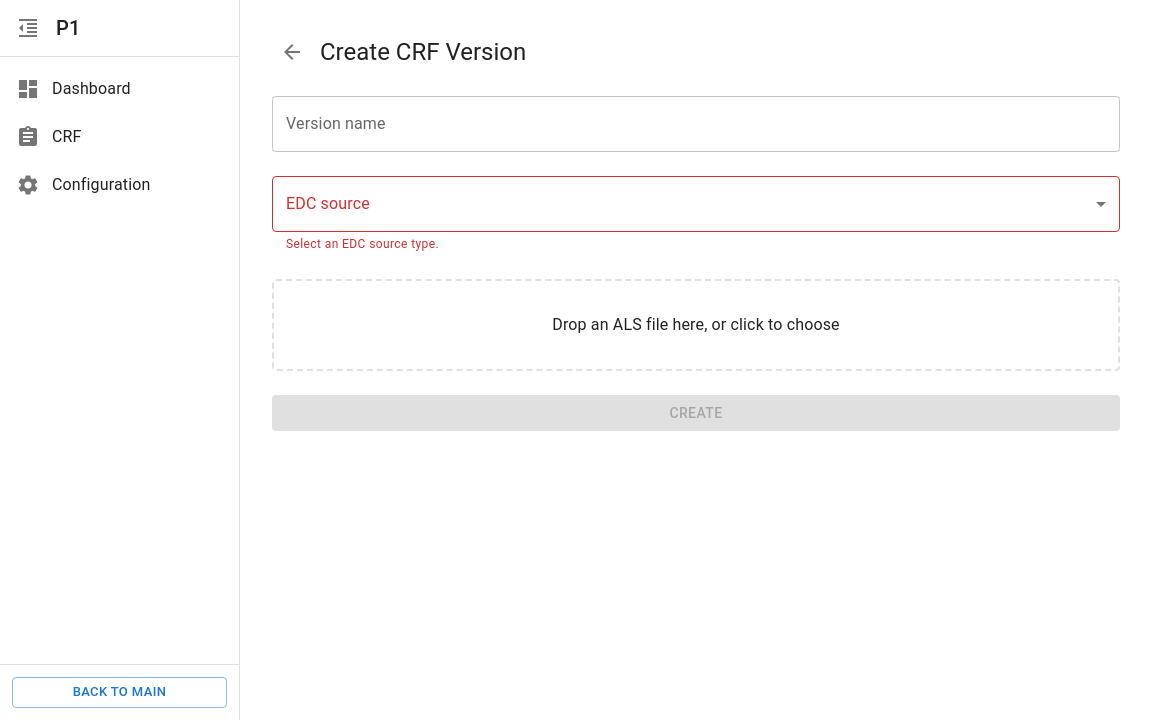
CreateCrfVersionPage — submit error path › surfaces the server error code in the failure Snackbar
Type "vDup" into the field labelled "Version name" at (696, 124), box [272, 96, 1120, 152]
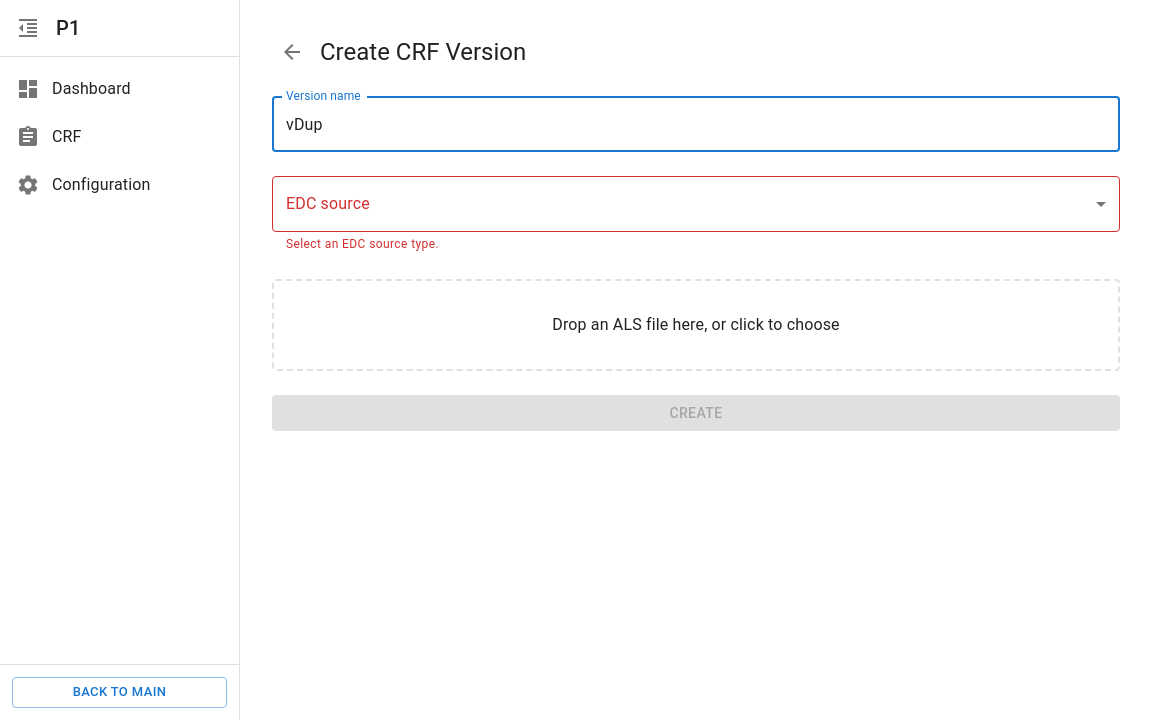
Click the dropdown named "edc source" at (696, 204), box [272, 176, 1120, 232]
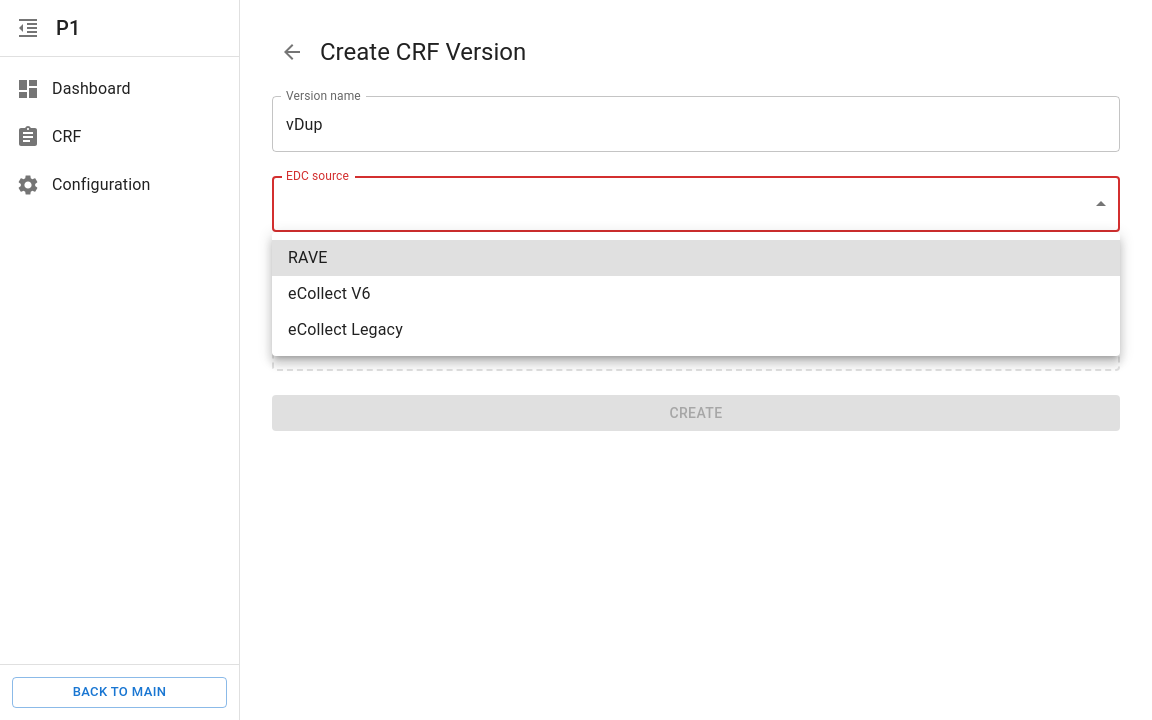
Click the option "RAVE" at (308, 258), box [272, 240, 1120, 276]
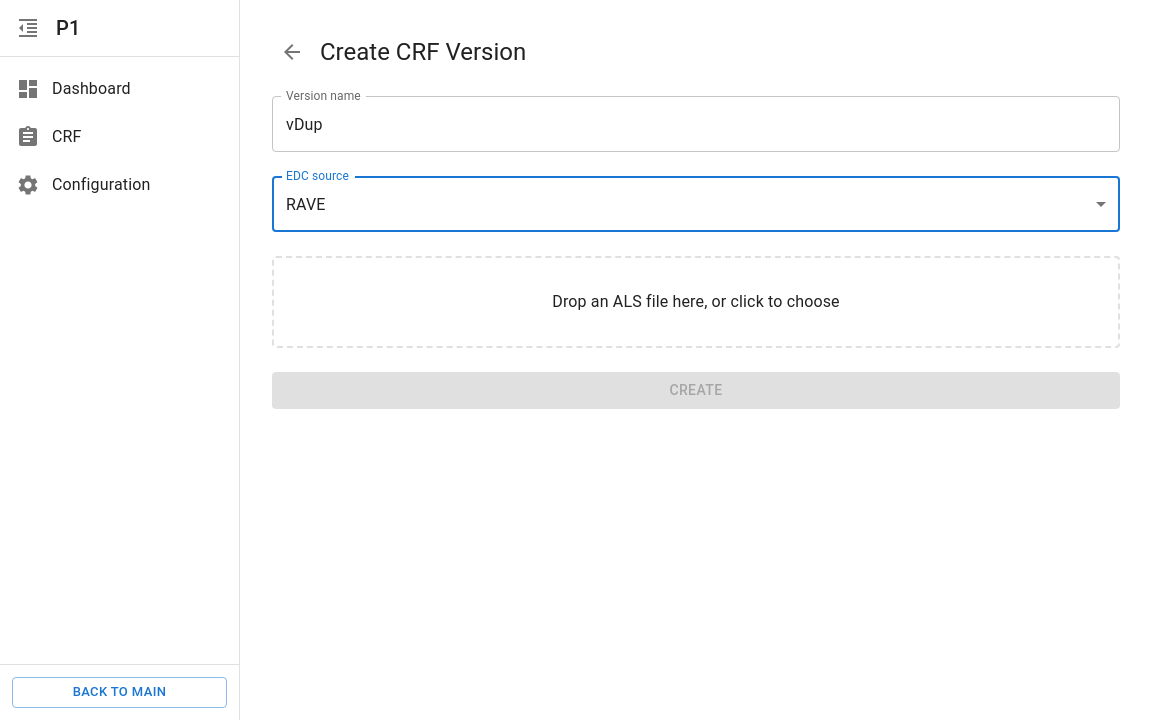
Click the button with test id "als-dropzone" at (696, 302), box [272, 256, 1120, 348]
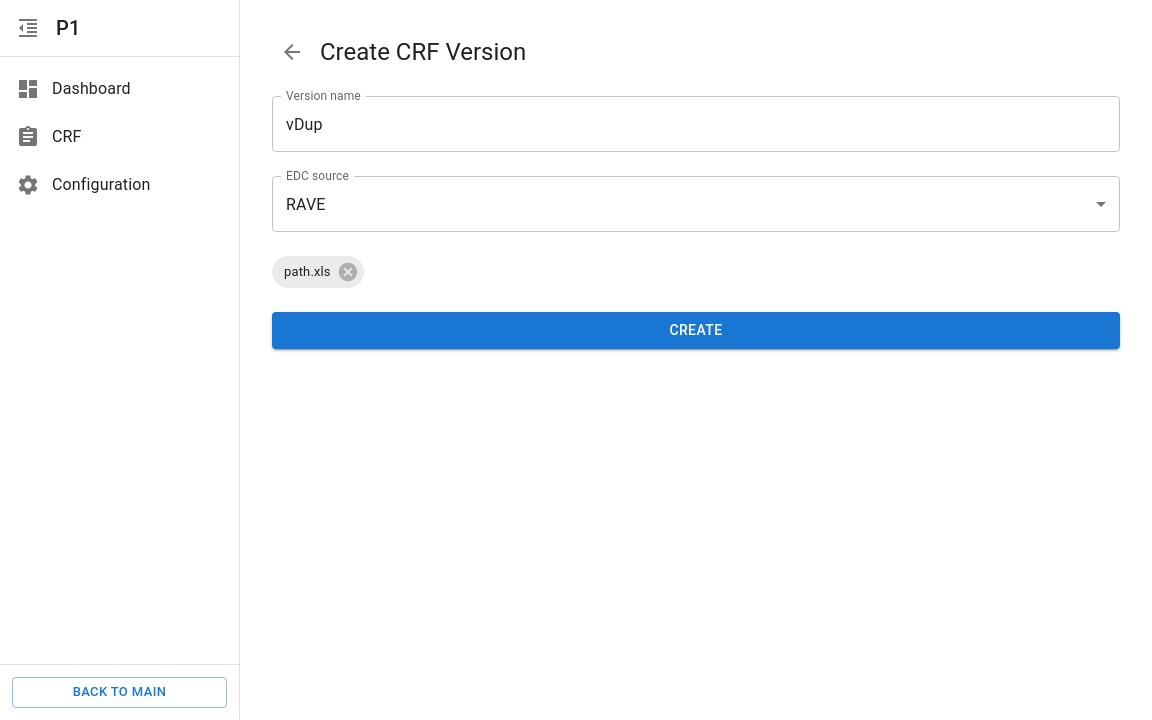
Result: the text "path.xls" is shown at [284, 264, 331, 279]
Click the button "Create" at (696, 330), box [272, 312, 1120, 348]
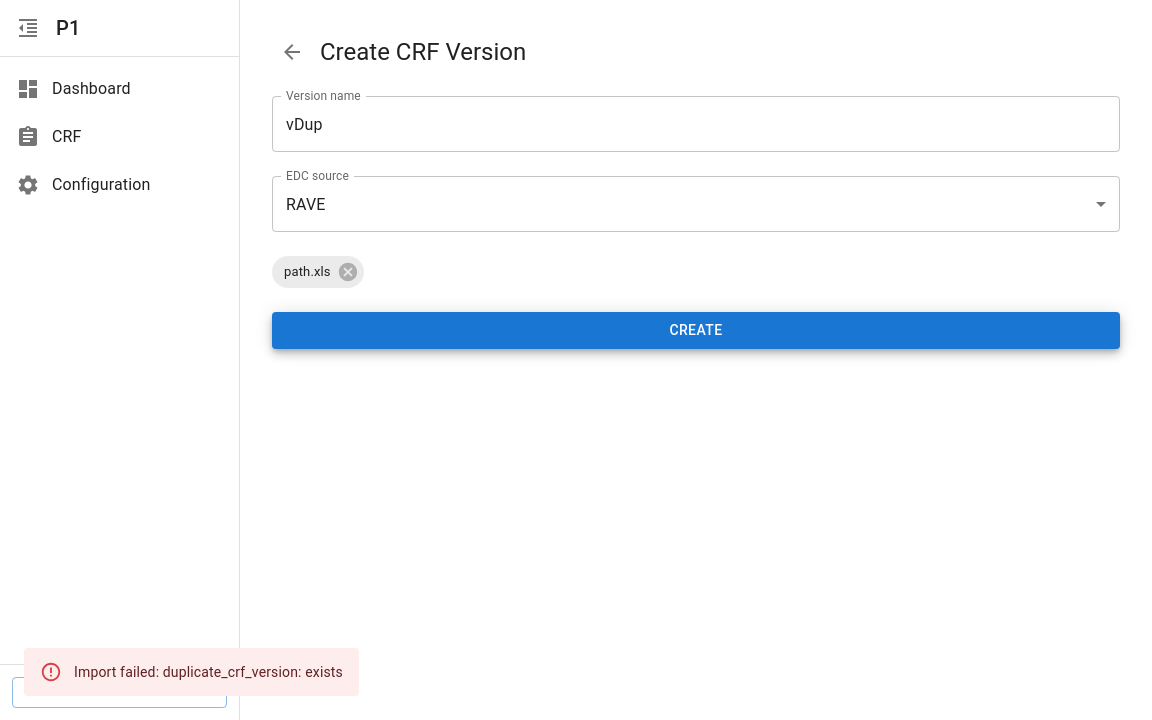
Result: the message shows "duplicate_crf_version" at [74, 664, 343, 680]
